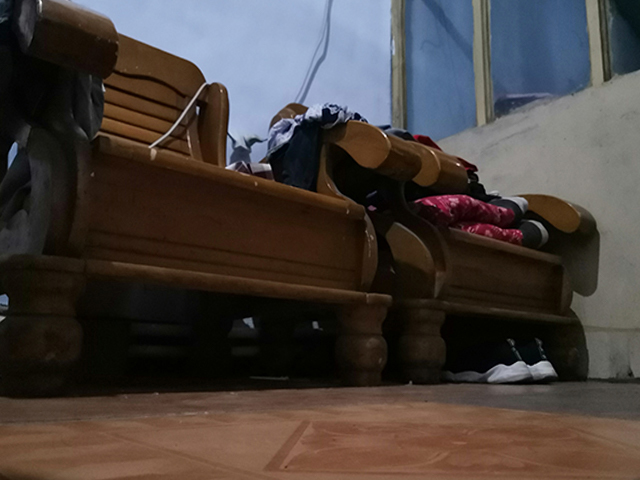stool: (1, 1, 382, 399), (267, 99, 589, 380)
